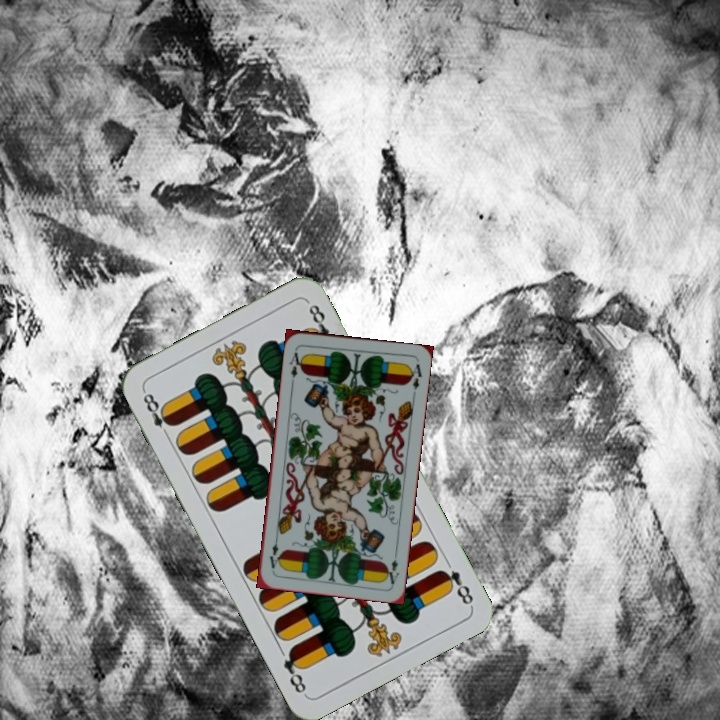E8: (139, 386, 177, 441), (434, 565, 476, 609)
EA: (382, 546, 402, 587), (285, 345, 306, 380)
